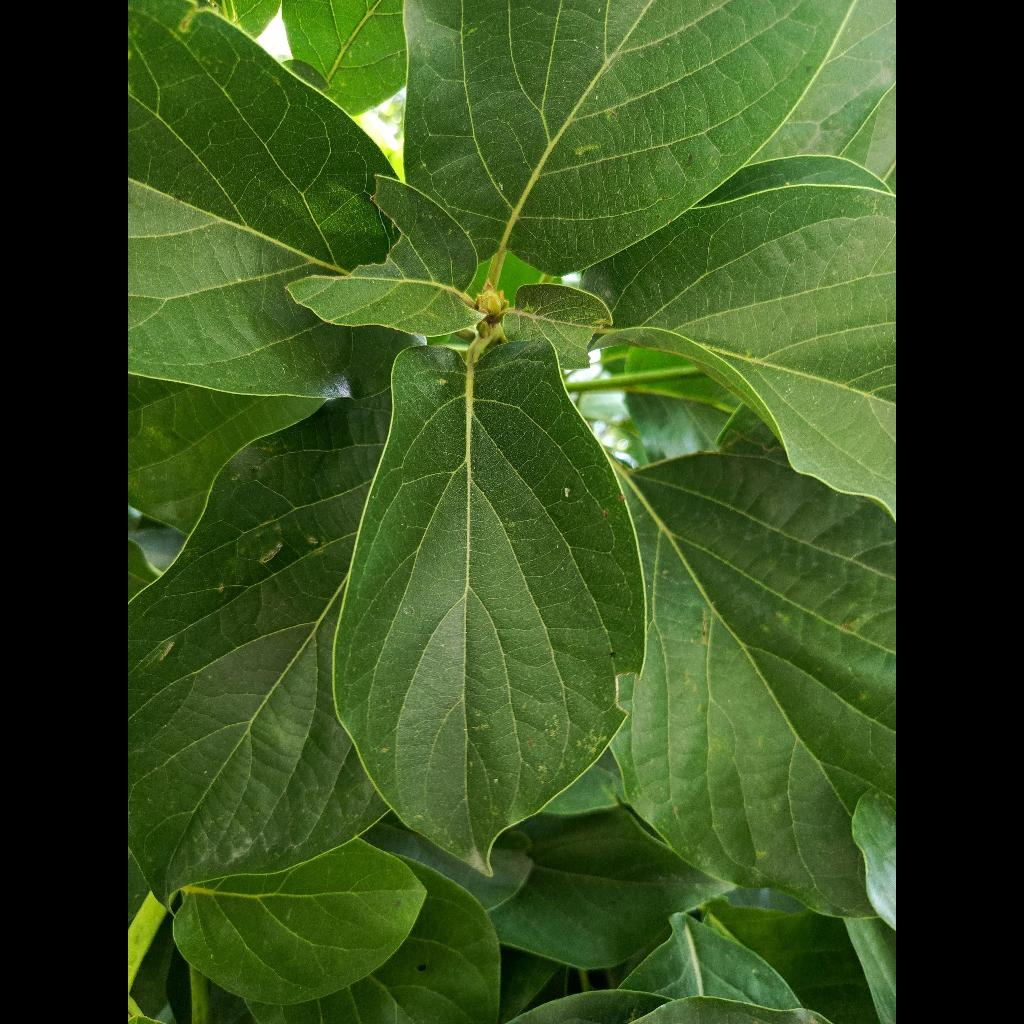plaga: (334, 340, 644, 869)
